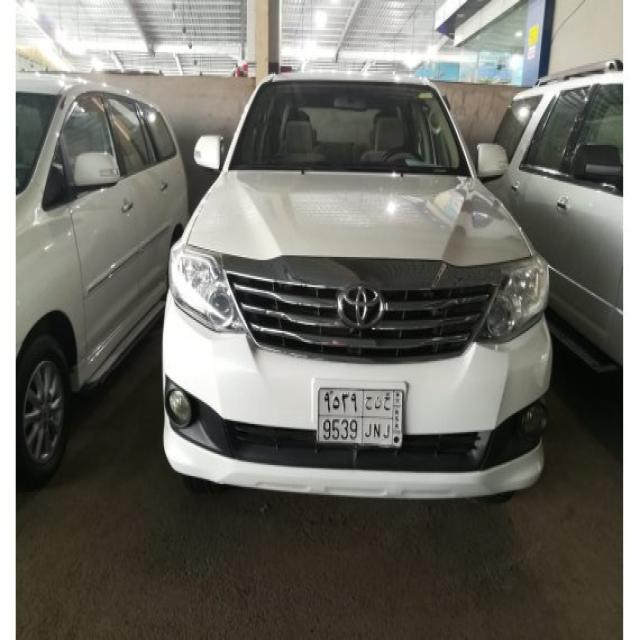license_plate: (316, 386, 406, 449)
